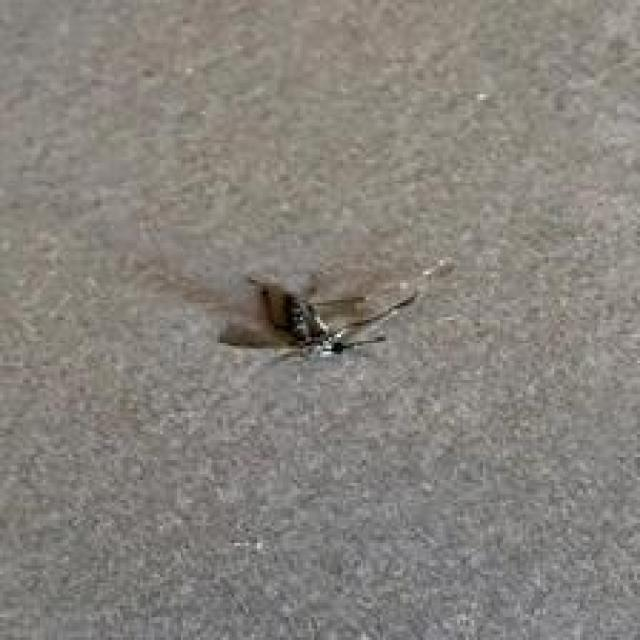Aedes albopictus: (217, 268, 420, 363)
